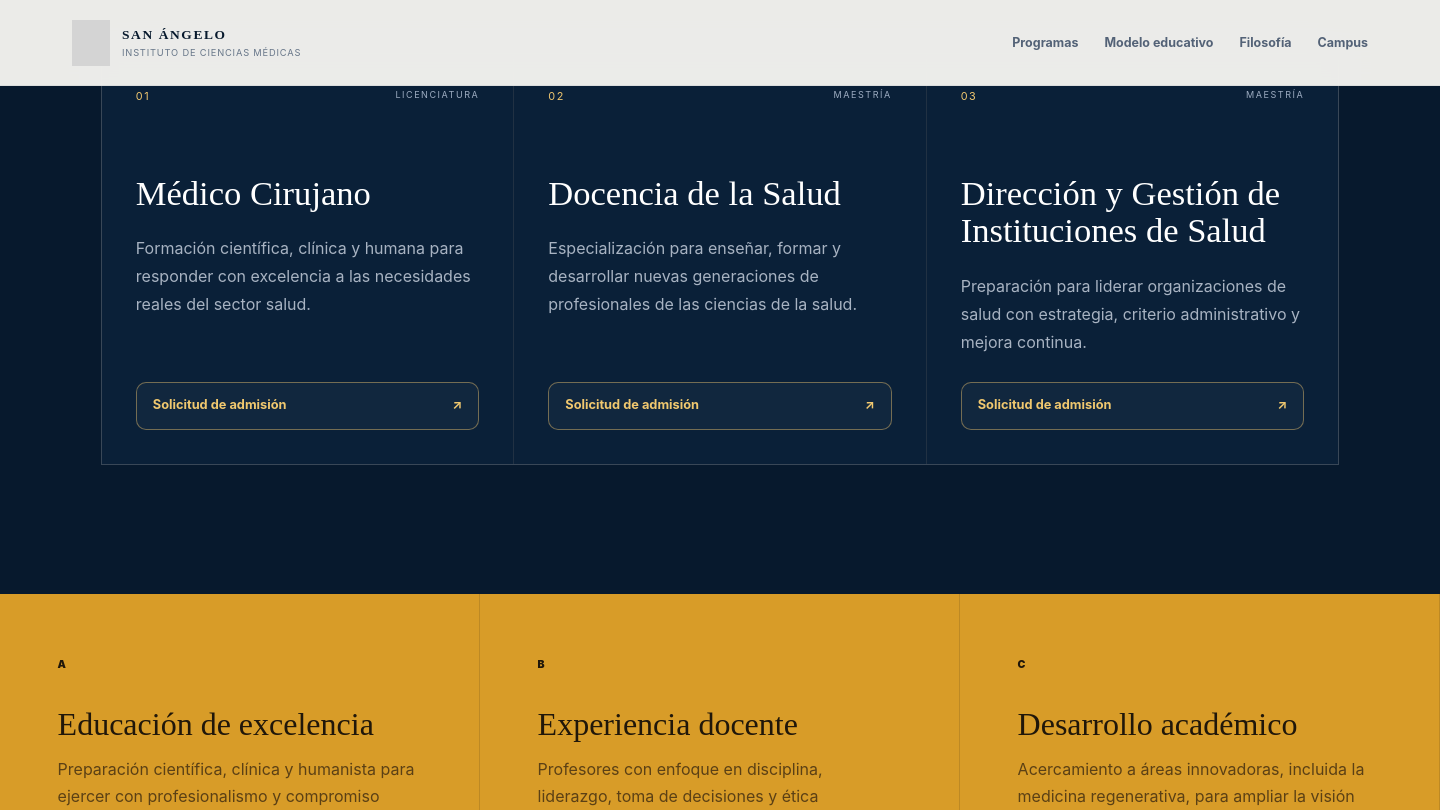
Test: opens a program-specific admission form from the academic offer
(page scrolled)
Click the button with aria-label "Solicitud de admisión · Médico Cirujano" at (220, 405), box top-left (136, 382), bottom-right (479, 430)
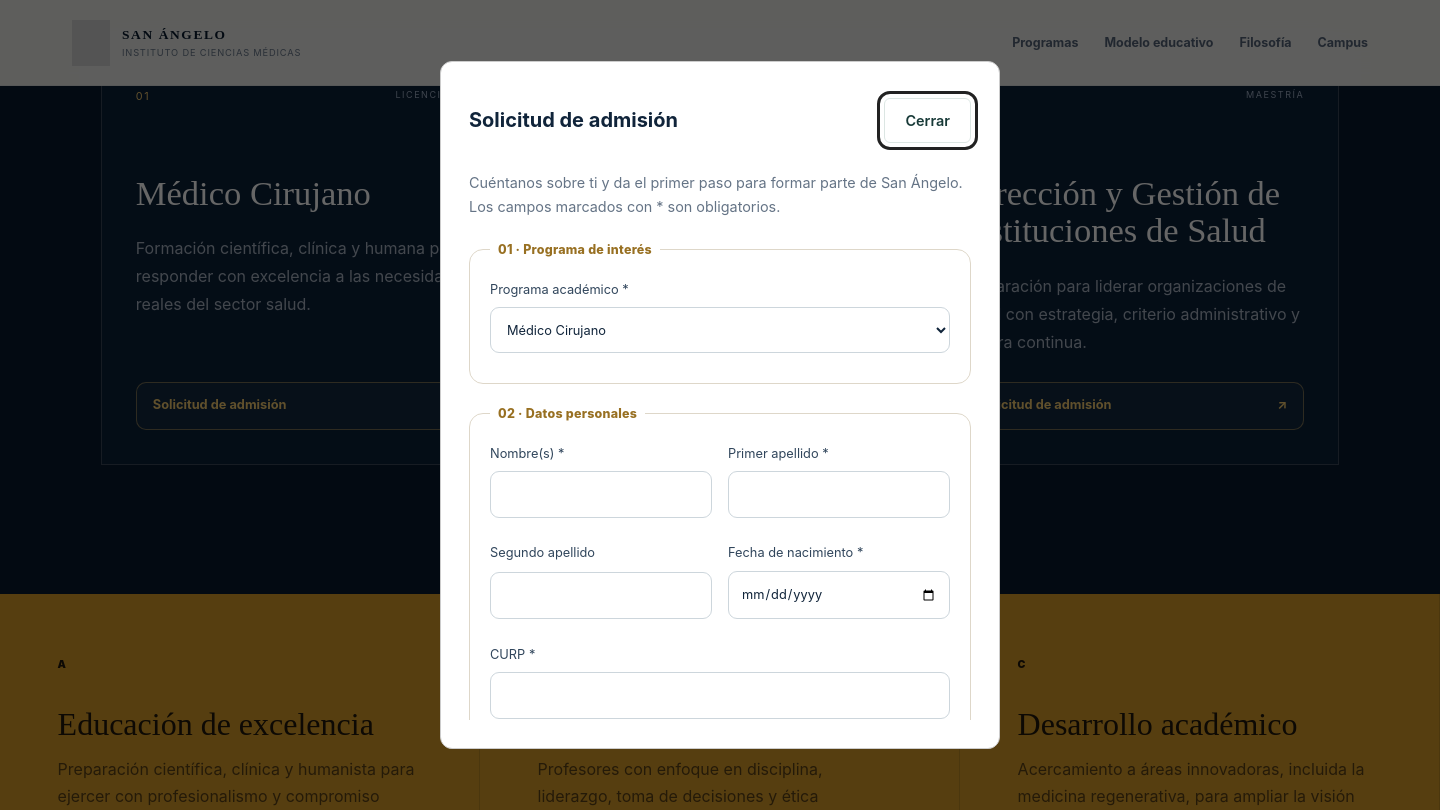
Check: the dropdown labelled "Programa académico *" shows "Médico Cirujano", box top-left (490, 307), bottom-right (950, 353)
